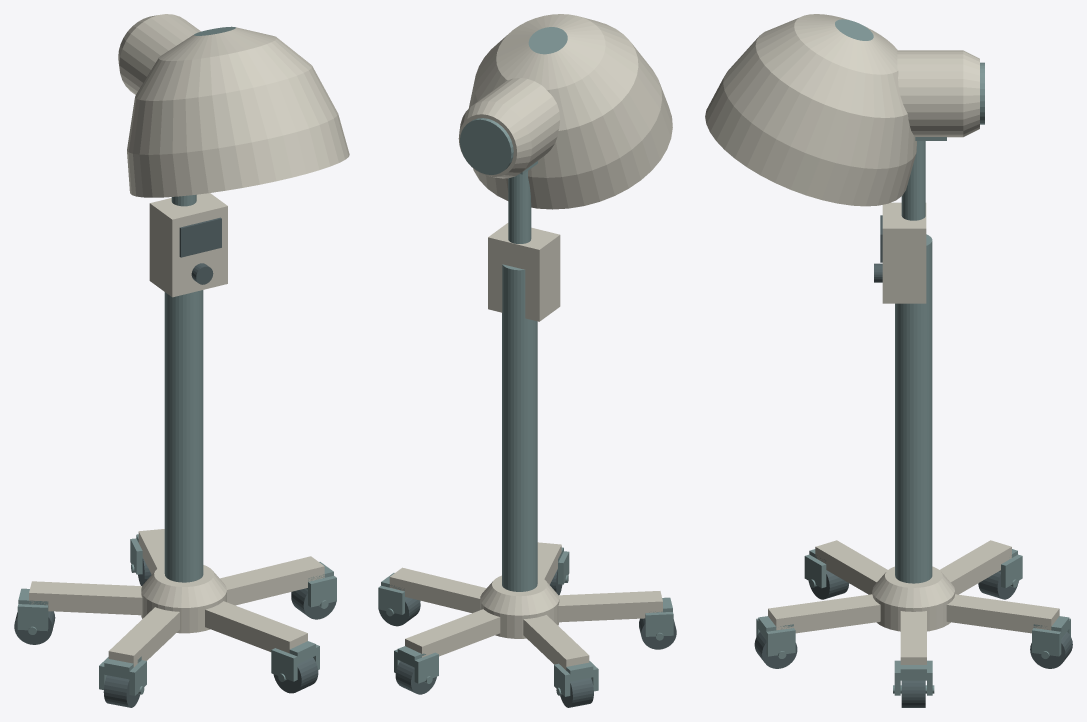
The picture shows the model from 3 angles, left to right: view 1: azimuth 30°, elevation 25°; view 2: azimuth 150°, elevation 25°; view 3: azimuth 270°, elevation 25°; orthographic projection. The views are drawn at different scales.
Visible parts, largest first — view 1: WholeOpenLowerMouthDoubleWallDome, WholeFixedOuterMast, WholeMastControlHousing, WholeCentralFiveBranchHub, WholeRearMotorCaseAppearance, WholeRadialBaseBranch_2, WholeRadialBaseBranch_0, WholeRadialBaseBranch_4, WholeRadialBaseBranch_3, BlankUnlitControlFace, WholeCasterFork_4, WholeCasterFork_3 (+7 smaller); view 2: WholeOpenLowerMouthDoubleWallDome, WholeFixedOuterMast, WholeRearMotorCaseAppearance, WholeMastControlHousing, WholeCentralFiveBranchHub, WholeRadialBaseBranch_3, WholeRadialBaseBranch_0, WholeRadialBaseBranch_1, WholeRearCaseCover, WholeRadialBaseBranch_2, WholeFixedUpperMast, WholeCasterFork_1 (+8 smaller); view 3: WholeOpenLowerMouthDoubleWallDome, WholeFixedOuterMast, WholeRearMotorCaseAppearance, WholeMastControlHousing, WholeCentralFiveBranchHub, WholeRadialBaseBranch_1, WholeRadialBaseBranch_4, WholeRadialBaseBranch_3, WholeRadialBaseBranch_2, WholeRadialBaseBranch_0, WholeFixedUpperMast, WholeCasterFork_4 (+9 smaller).
Part boxes in pixels (x1,y1,x2,y2): WholeOpenLowerMouthDoubleWallDome: (127, 26, 349, 197); WholeFixedOuterMast: (164, 290, 203, 582); WholeMastControlHousing: (149, 193, 227, 297); WholeCentralFiveBranchHub: (141, 565, 226, 633); WholeRearMotorCaseAppearance: (118, 14, 200, 94); WholeRadialBaseBranch_2: (29, 581, 142, 615); WholeRadialBaseBranch_0: (220, 556, 324, 605); WholeRadialBaseBranch_4: (205, 601, 307, 653); WholeRadialBaseBranch_3: (108, 607, 179, 667); BlankUnlitControlFace: (179, 217, 221, 257); WholeCasterFork_4: (271, 641, 319, 681); WholeCasterFork_3: (99, 656, 146, 695); WholeOpenLowerMouthDoubleWallDome: (468, 14, 672, 209); WholeFixedOuterMast: (502, 264, 537, 591); WholeRearMotorCaseAppearance: (458, 78, 560, 178); WholeMastControlHousing: (488, 223, 560, 321); WholeCentralFiveBranchHub: (480, 575, 559, 638); WholeRadialBaseBranch_3: (558, 591, 662, 622); WholeRadialBaseBranch_0: (389, 567, 486, 613); WholeRadialBaseBranch_1: (405, 609, 500, 657); WholeRearCaseCover: (460, 118, 513, 174); WholeRadialBaseBranch_2: (523, 615, 589, 670); WholeFixedUpperMast: (508, 171, 531, 243); WholeCasterFork_1: (394, 646, 438, 683); WholeOpenLowerMouthDoubleWallDome: (705, 14, 916, 206); WholeFixedOuterMast: (895, 234, 932, 583); WholeRearMotorCaseAppearance: (897, 50, 979, 137); WholeMastControlHousing: (882, 202, 926, 303); WholeCentralFiveBranchHub: (872, 566, 954, 631); WholeRadialBaseBranch_1: (946, 594, 1059, 633); WholeRadialBaseBranch_4: (768, 594, 880, 633); WholeRadialBaseBranch_3: (815, 540, 887, 594); WholeRadialBaseBranch_2: (939, 540, 1011, 594); WholeRadialBaseBranch_0: (900, 611, 926, 664); WholeFixedUpperMast: (901, 141, 925, 220); WholeCasterFork_4: (756, 616, 795, 656).
Bounding box in the file's own units: 0.7335 × 1.66 × 0.8889.
